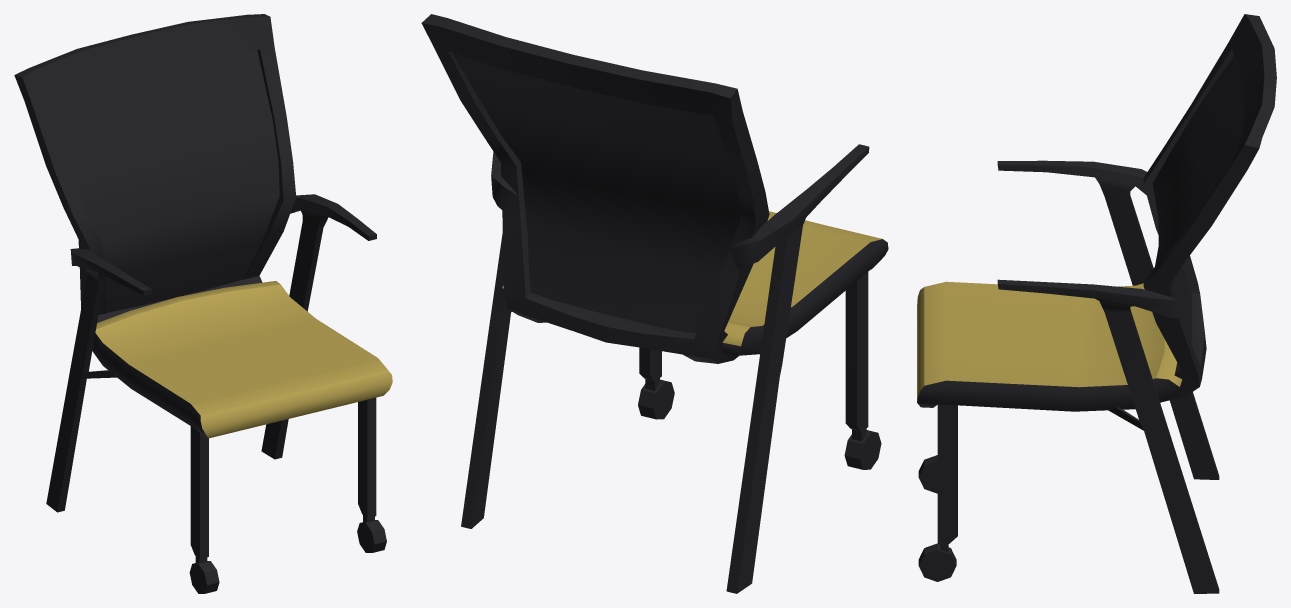
The model's file is newbookarchive_wheelchair.fbx.
3 renders of one model, left to right at view 1: azimuth 30°, elevation 25°; view 2: azimuth 150°, elevation 25°; view 3: azimuth 270°, elevation 25°, orthographic. The views are drawn at different scales.
Visible parts, largest first — view 1: newbookarchive_wheelchair; view 2: newbookarchive_wheelchair; view 3: newbookarchive_wheelchair.
Boxes of the visible parts, x1,y1,x2,y2 form: newbookarchive_wheelchair: [14, 14, 392, 593]; newbookarchive_wheelchair: [421, 14, 888, 593]; newbookarchive_wheelchair: [917, 14, 1276, 593].
Size of the model in its own units: 0.00518 by 0.00839 by 0.00596.
Materials: 1 (1 with a texture image).
